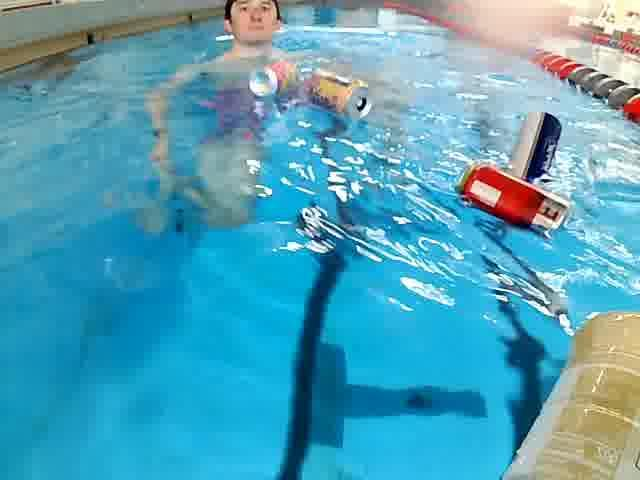Can: (484, 298, 639, 480), (450, 162, 574, 242), (501, 107, 569, 188), (302, 67, 379, 125), (246, 59, 308, 103)
